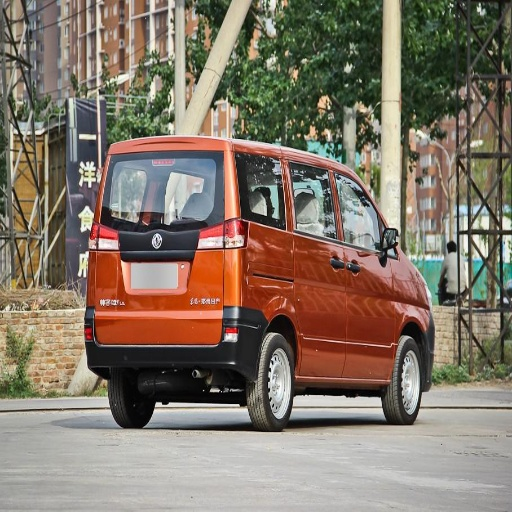back_bumper: (85, 310, 263, 377)
back_right_door: (288, 158, 345, 378)
trunk: (94, 222, 245, 342), (244, 278, 287, 329)
